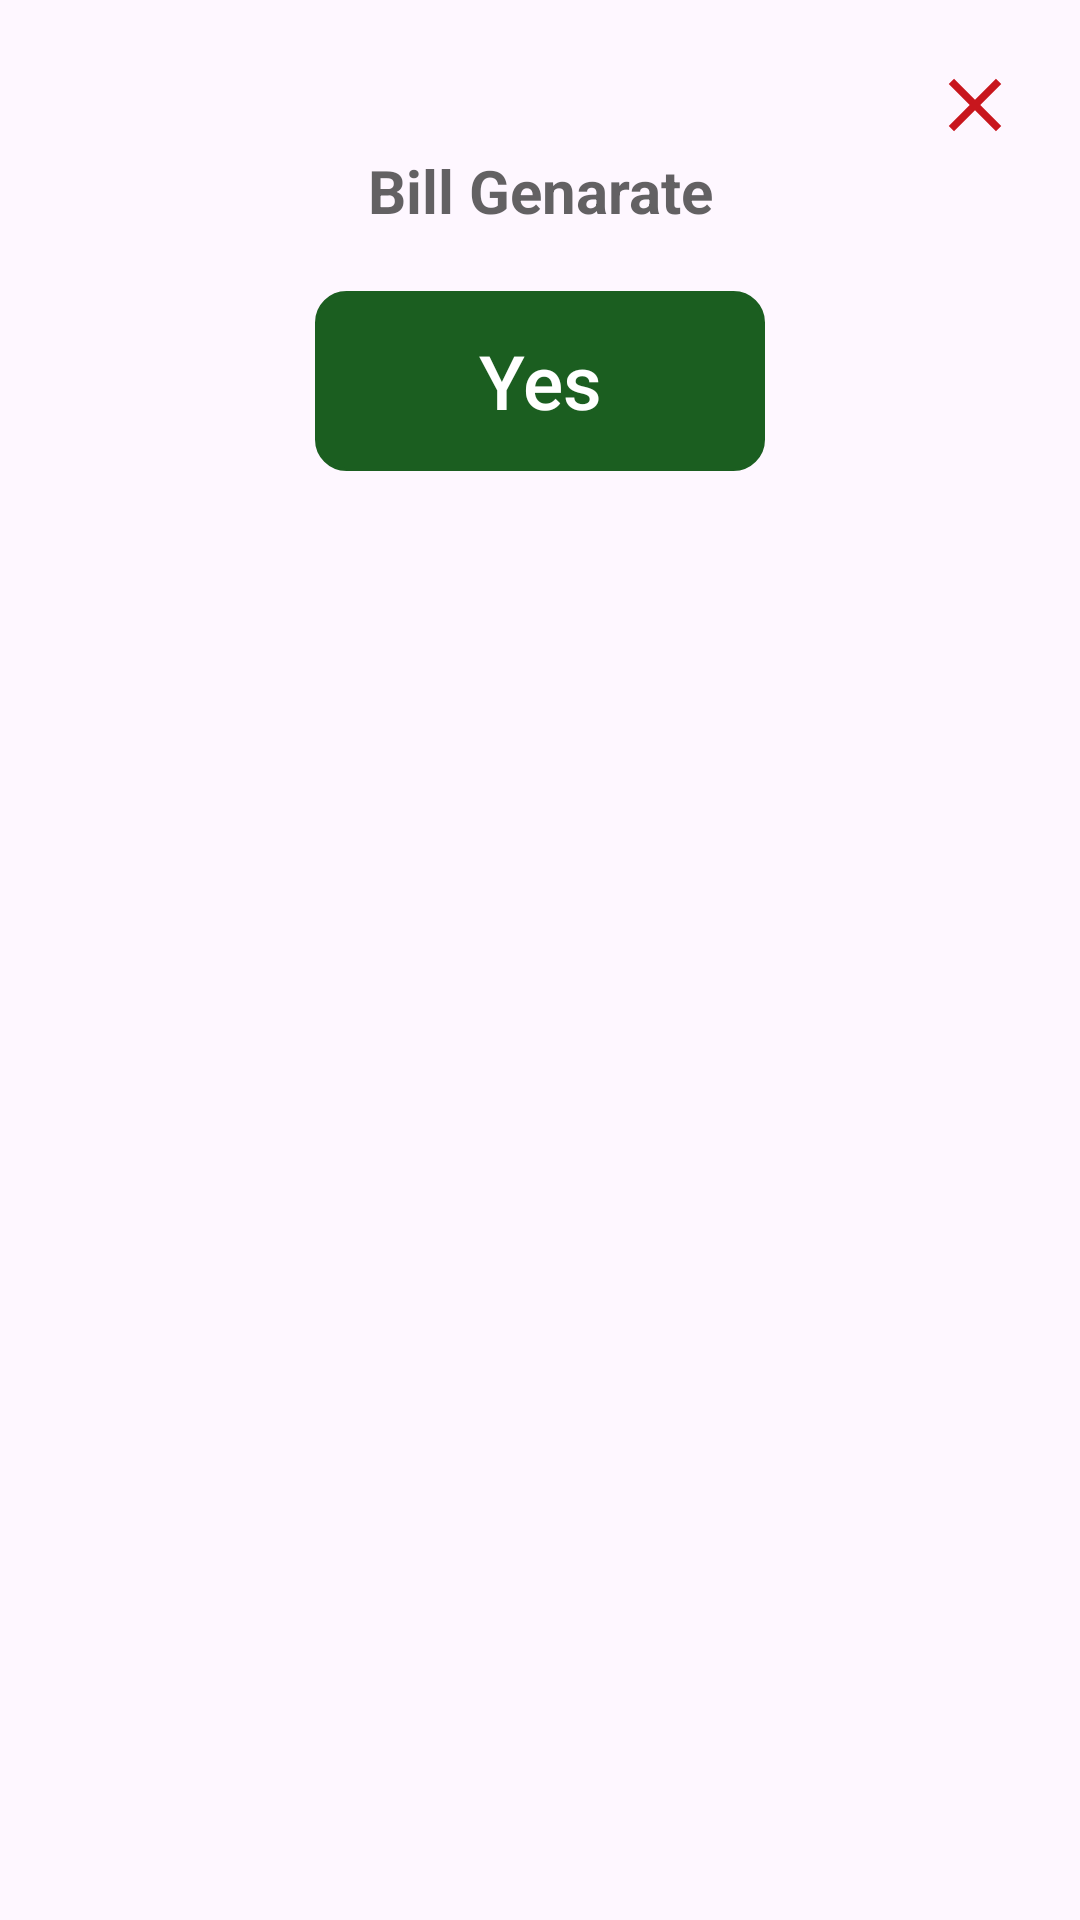

Where icons sit on this 1080 × 1920 app screen, as (x1, y1, x2, y2):
close: (949, 79, 1001, 131)
